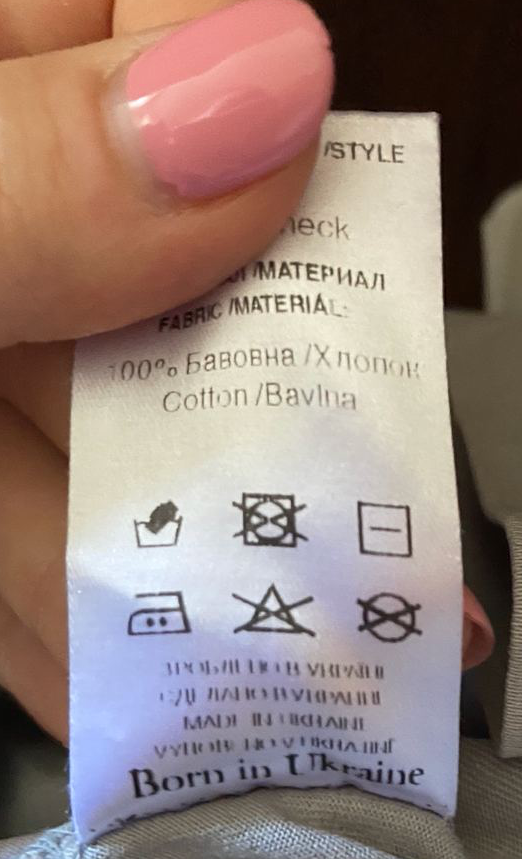do_not_bleach: (229, 580, 319, 640)
do_not_dry_clean: (352, 589, 426, 646)
do_not_tumble_drying: (226, 491, 311, 553)
dry_flat: (355, 496, 418, 562)
hand_wash: (130, 496, 188, 552)
ironing_at_med_temp: (124, 584, 194, 638)
